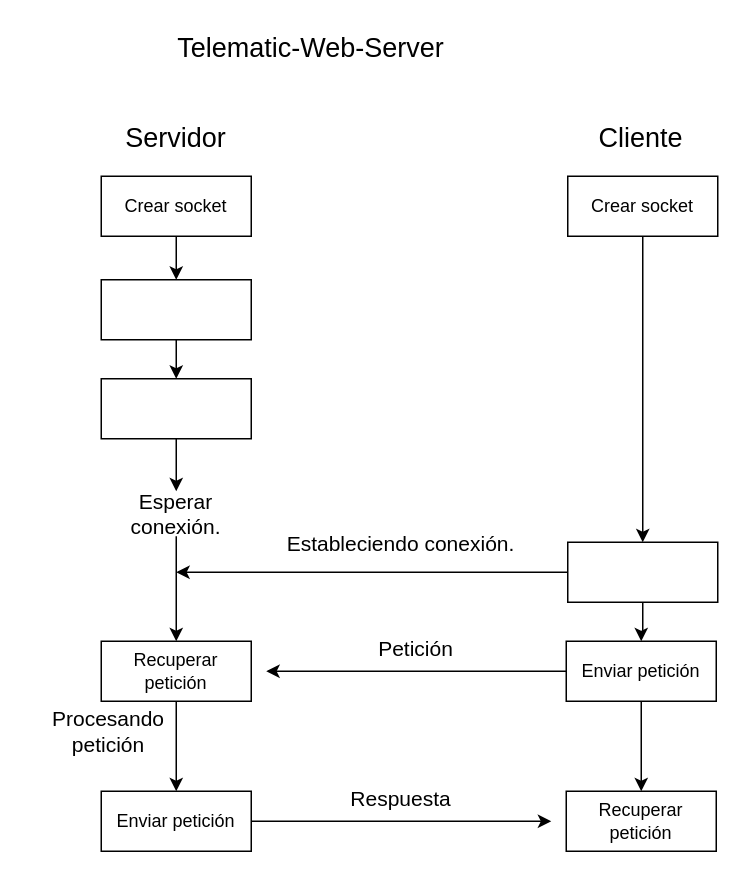
This 744x878 diagram has some shape labels left out. The shapes that lost their labels are listed below. From the top down, each one's box as (x1, y1, x2, y2) in pixels, then its label:
(100, 278, 251, 340): Vincular sockets
(100, 377, 251, 439): Escuchar
(566, 541, 718, 602): Conectar sockets
